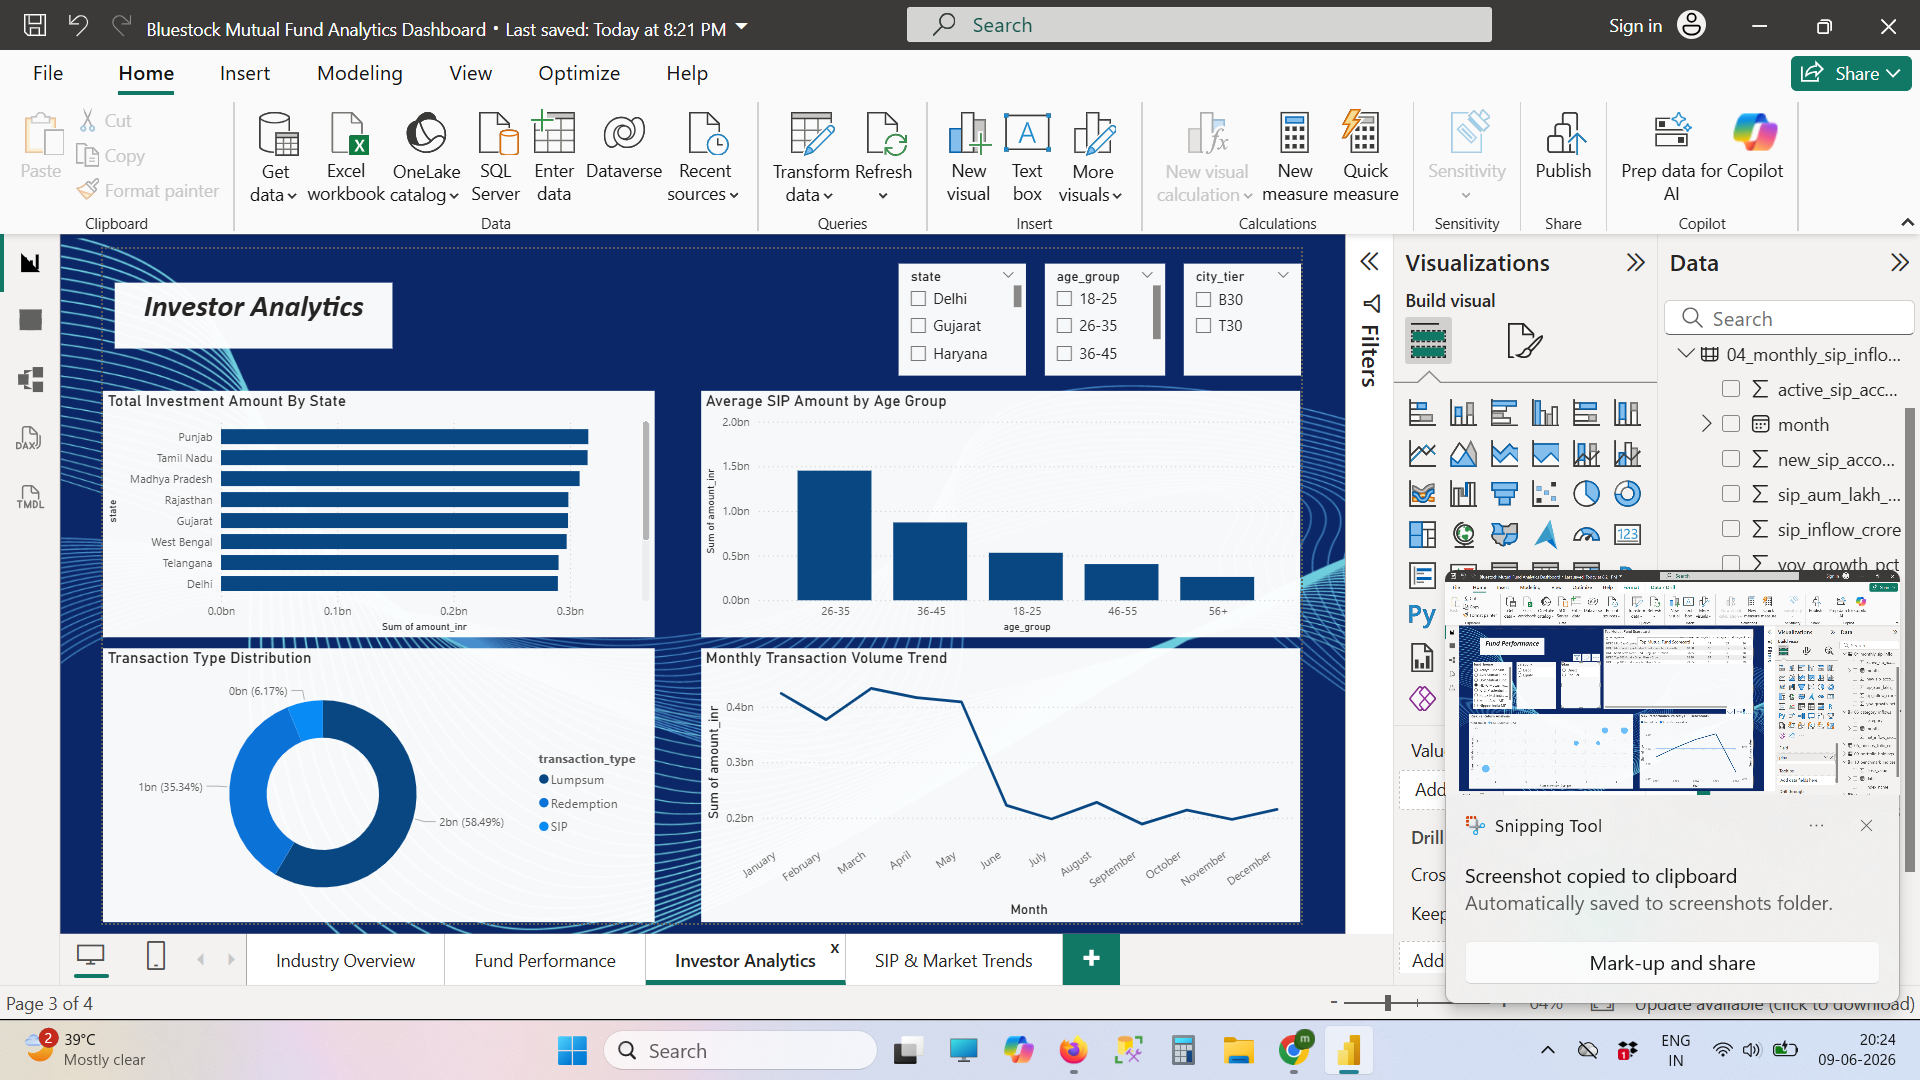

The dashboard page shown, as its layout file describes it:
{"tool":"powerbi","page":{"name":"Investor Analytics","canvas":[1280,720],"ordinal":2},"visuals":[{"type":"clusteredBarChart","title":"Total Investment Amount By State","fields":{"Category":["investor_transactions_clean.state"],"Y":["Sum(investor_transactions_clean.amount_inr)"]},"box":[0,151.5,589.2,263.2],"z":0},{"type":"donutChart","title":"Transaction Type Distribution","fields":{"Category":["investor_transactions_clean.transaction_type"],"Y":["Sum(investor_transactions_clean.amount_inr)"]},"box":[0,427,589.2,292.3],"z":1000},{"type":"clusteredColumnChart","title":"Average SIP Amount by Age Group","fields":{"Category":["investor_transactions_clean.age_group"],"Y":["Sum(investor_transactions_clean.amount_inr)"]},"box":[639.7,151.5,639.7,263.2],"z":2000},{"type":"lineChart","title":"Monthly Transaction Volume Trend","fields":{"Y":["Sum(investor_transactions_clean.amount_inr)"],"Category":["investor_transactions_clean.transaction_date.Variation.Date Hierarchy.Month"]},"box":[639.7,427,639.7,292.3],"z":3000},{"type":"slicer","fields":{"Values":["investor_transactions_clean.state"]},"box":[849.4,15.3,136.2,119.4],"z":4000},{"type":"slicer","fields":{"Values":["investor_transactions_clean.age_group"]},"box":[1007,15.3,128.6,119.4],"z":5000},{"type":"slicer","fields":{"Values":["investor_transactions_clean.city_tier"]},"box":[1154,15.3,125.5,119.4],"z":6000},{"type":"textbox","box":[12.2,35.2,296.9,70.4],"z":7000}]}

Visuals, with their boxes on the page's 1280x720 design canvas (x1, y1, x2, y2). These are canvas units, not pixel positions in the 1920x1080 screenshot, which may show the page scaled, cropped or inside an application window:
"Total Investment Amount By State" clusteredBarChart: 0, 152, 589, 415
"Transaction Type Distribution" donutChart: 0, 427, 589, 719
"Average SIP Amount by Age Group" clusteredColumnChart: 640, 152, 1279, 415
"Monthly Transaction Volume Trend" lineChart: 640, 427, 1279, 719
slicer - investor_transactions_clean.state: 849, 15, 986, 135
slicer - investor_transactions_clean.age_group: 1007, 15, 1136, 135
slicer - investor_transactions_clean.city_tier: 1154, 15, 1280, 135
textbox: 12, 35, 309, 106
